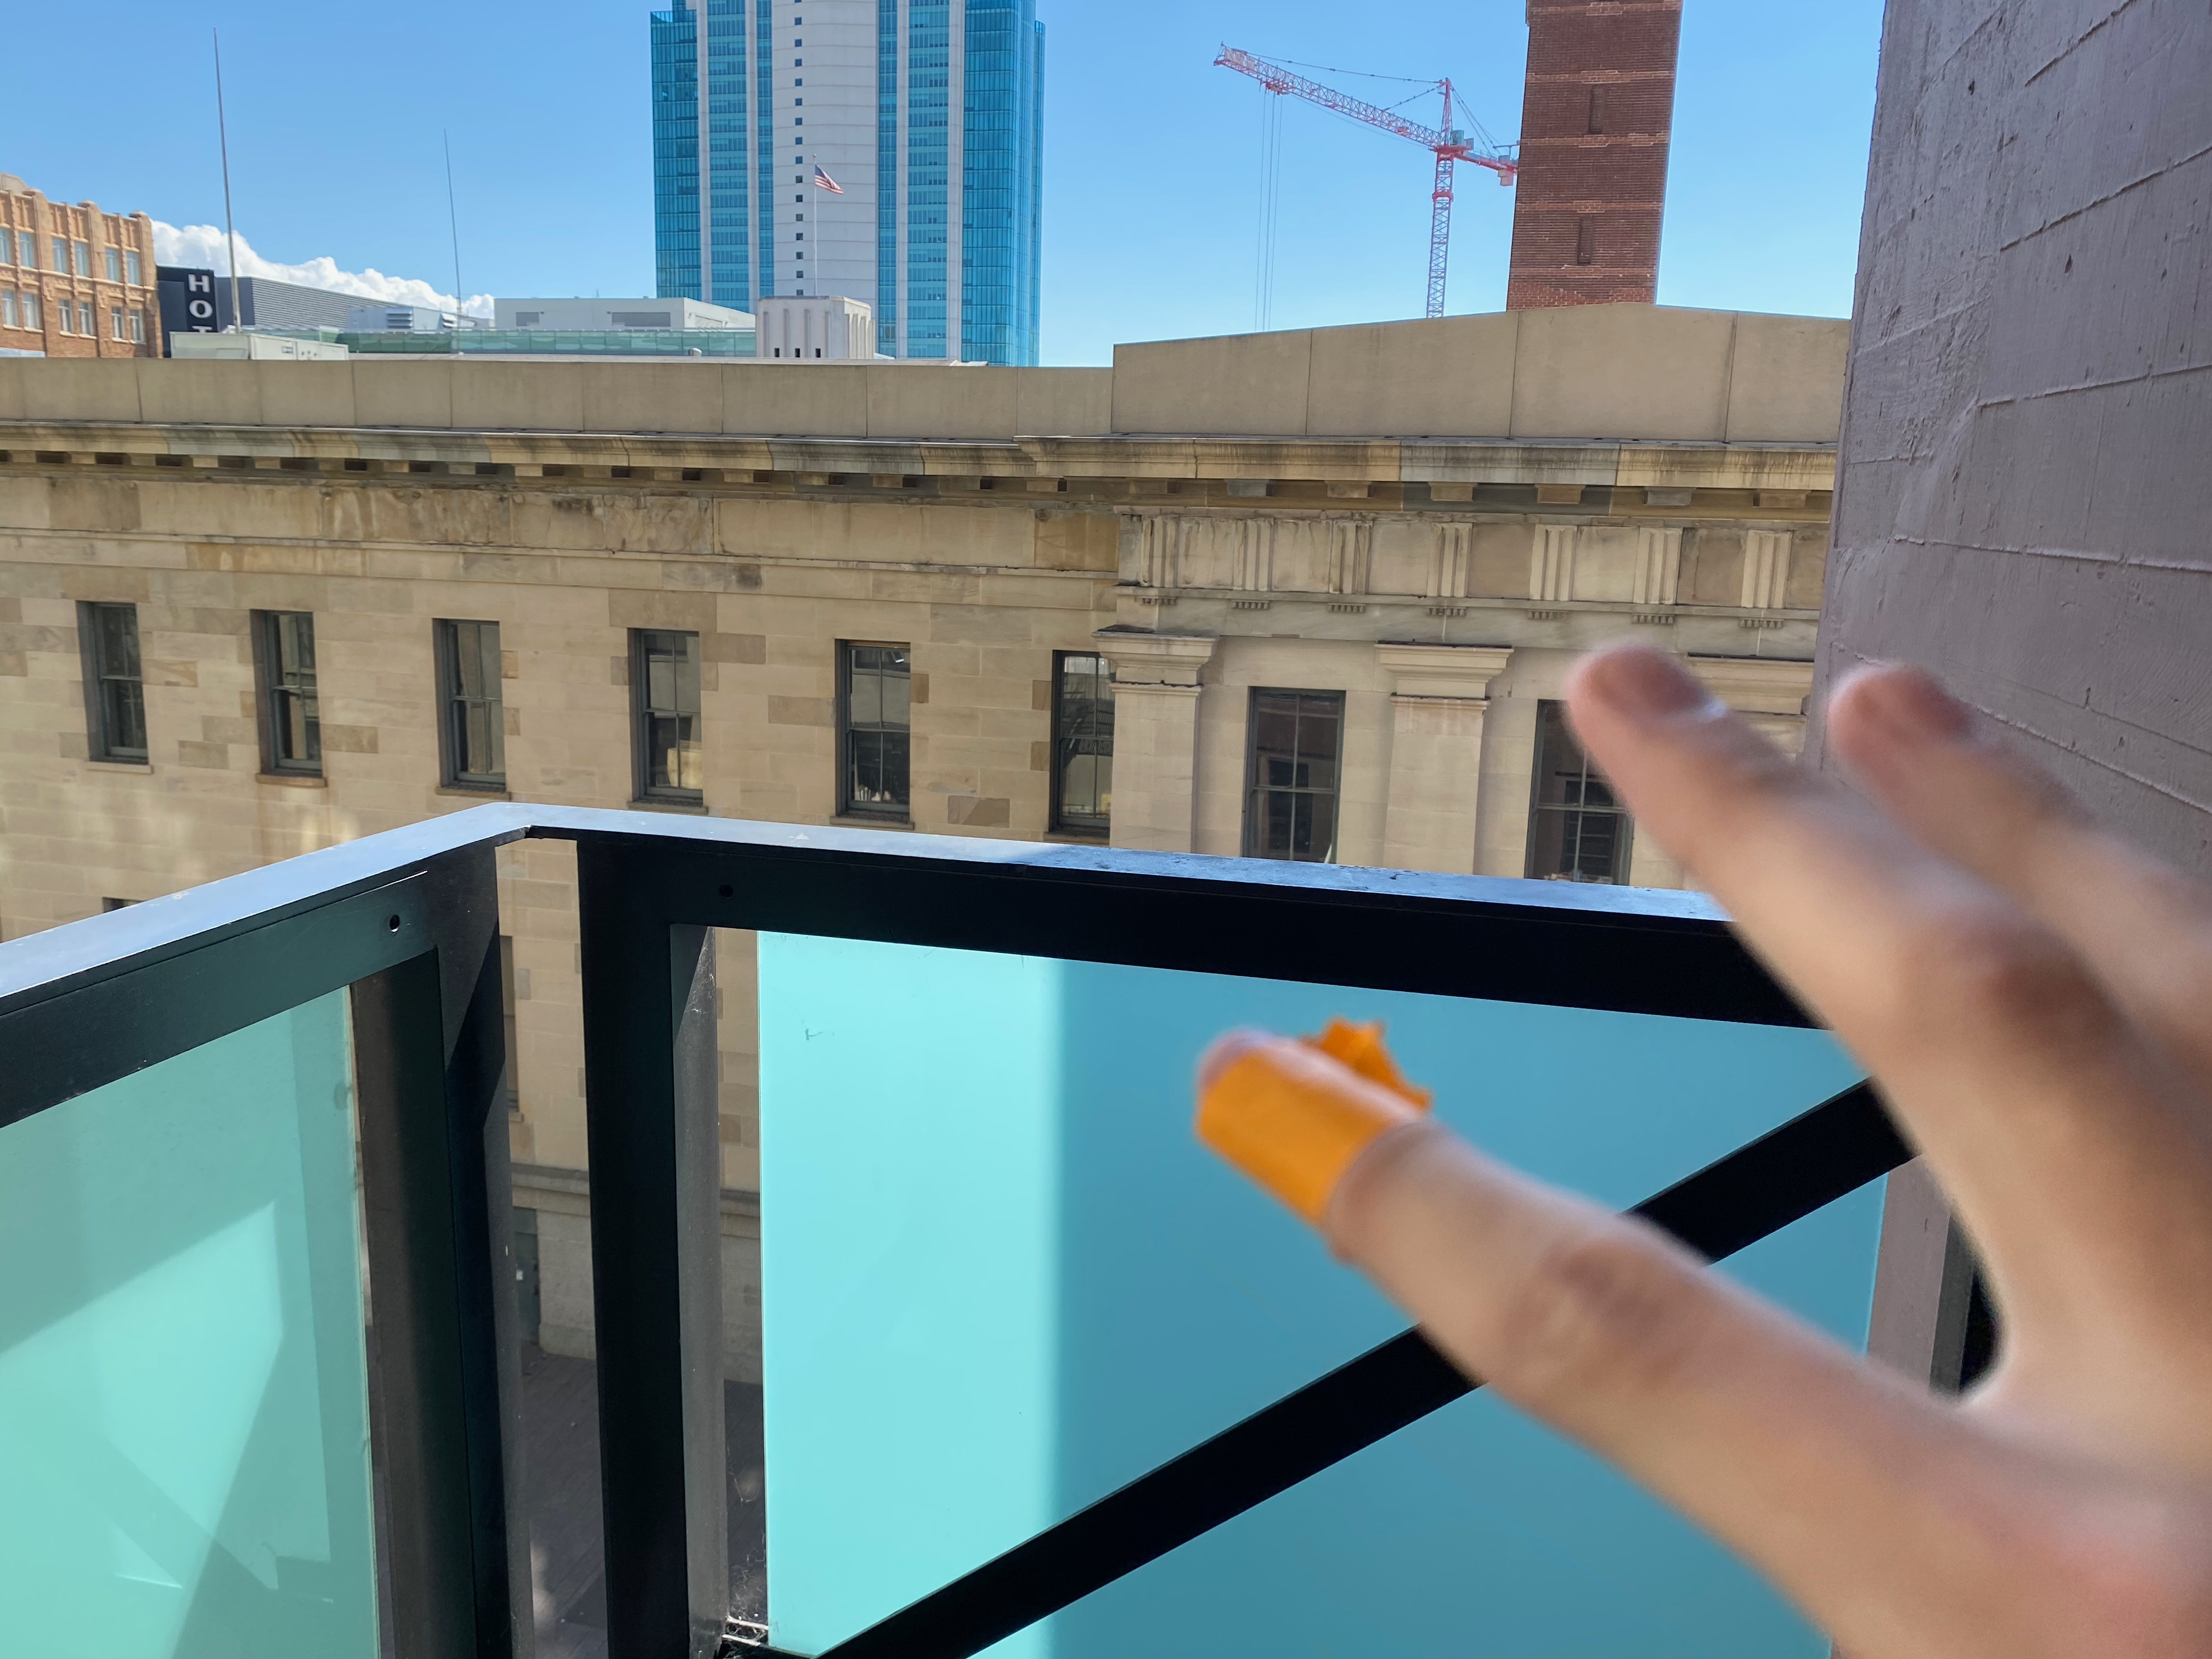fingertip: (1157, 1012, 1428, 1304)
